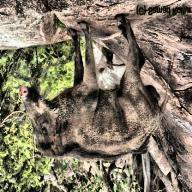boar: (21, 17, 173, 178)
